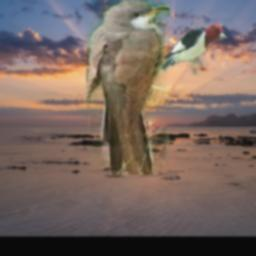Cuckoo: (87, 1, 171, 175)
Woodpecker: (155, 20, 229, 77)
